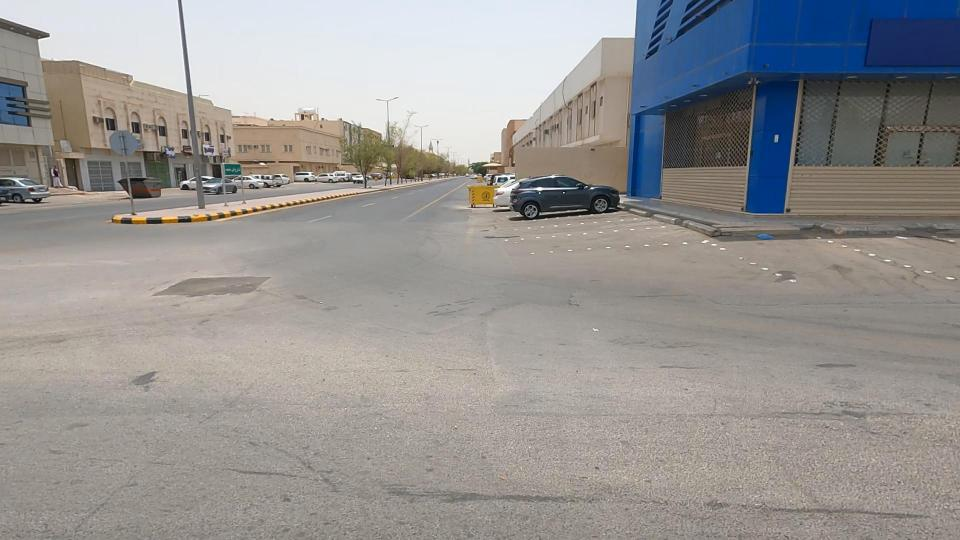GARBAGE: (738, 207, 791, 274)
